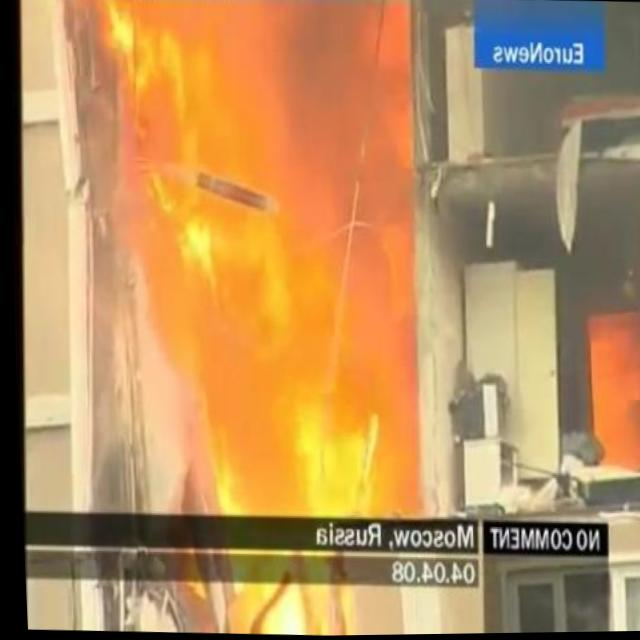fire: (34, 0, 429, 525), (579, 306, 640, 479)
